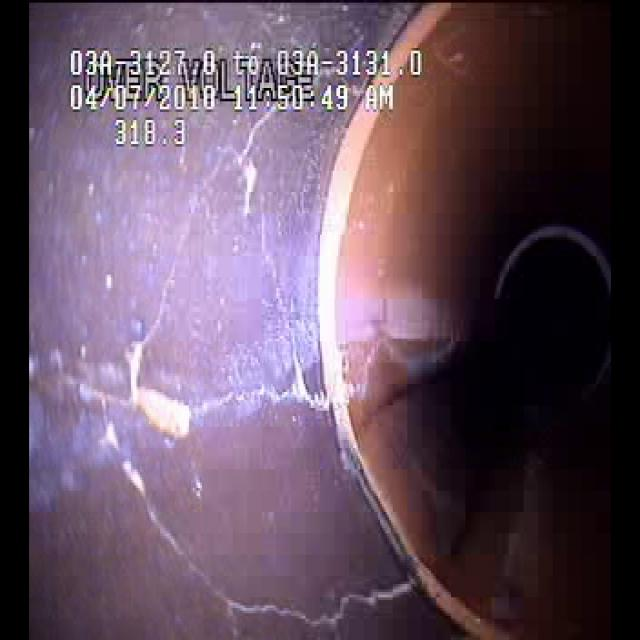Crack: (90, 175, 320, 601)
